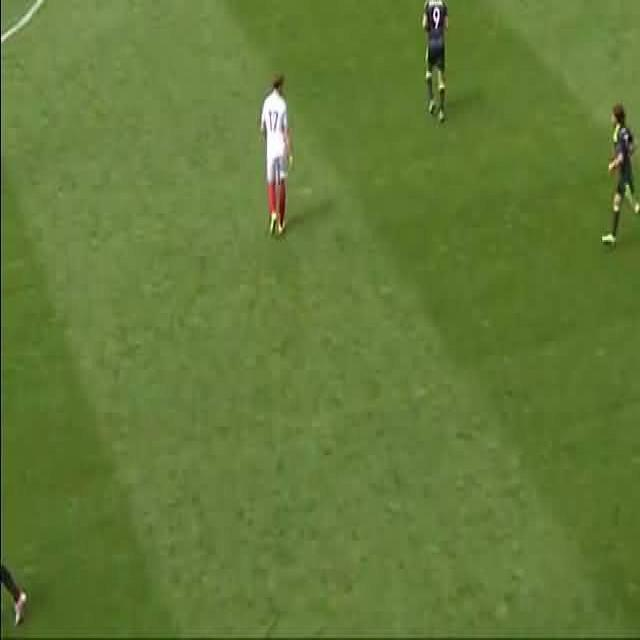player-white: (601, 101, 640, 244), (261, 70, 293, 236), (421, 0, 447, 124)
